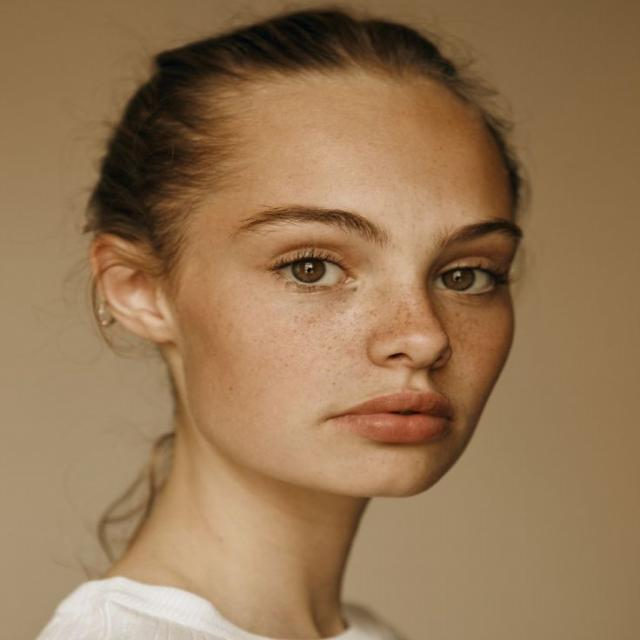earlobe: (139, 310, 178, 344)
eye: (270, 252, 358, 288), (430, 262, 500, 296)
nose: (372, 347, 460, 396)
wholeear: (87, 232, 178, 344)
